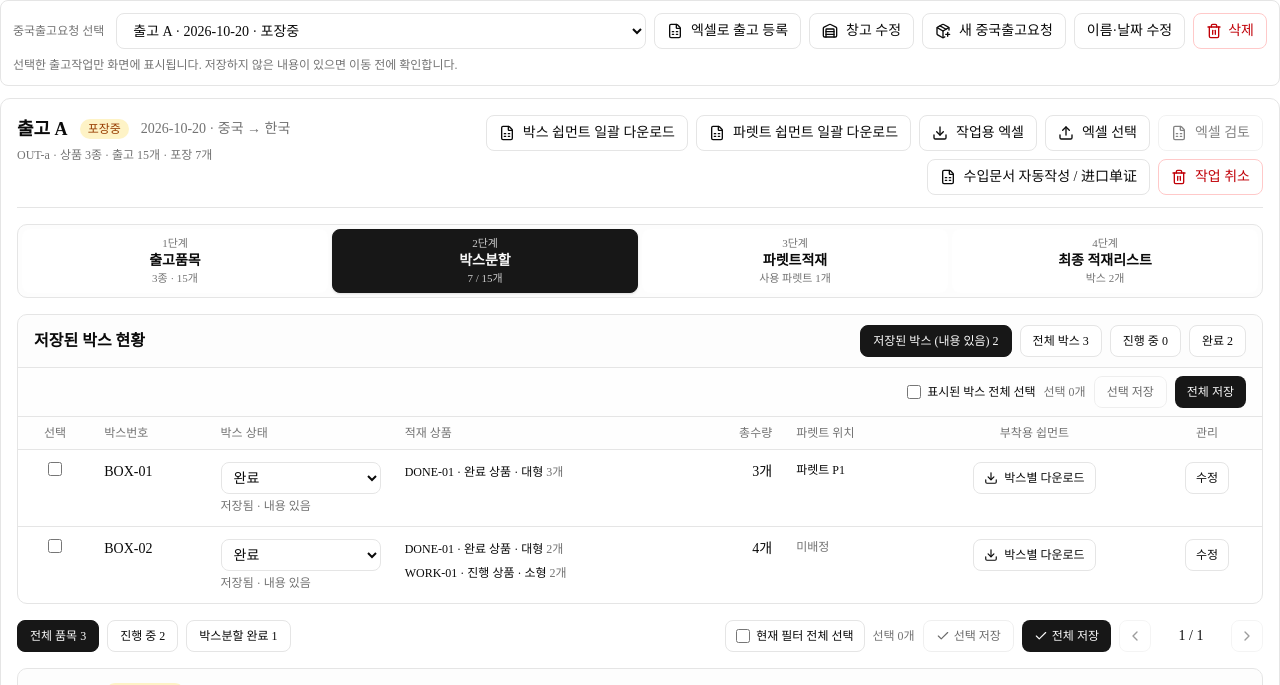
ChinaShipmentsBoard › shows saved box contents and lets users include empty boxes
The width and height of the screenshot is (1280, 685).
Expected: the text "BOX-01" is shown, [92,450,208,526]
Expected: the text "DONE-01 · 완료 상품 · 대형" in the row of "BOX-02" is shown, [405,542,543,556]
Click the button "전체 박스 3": {"x": 1061, "y": 341} [1020,325,1102,357]
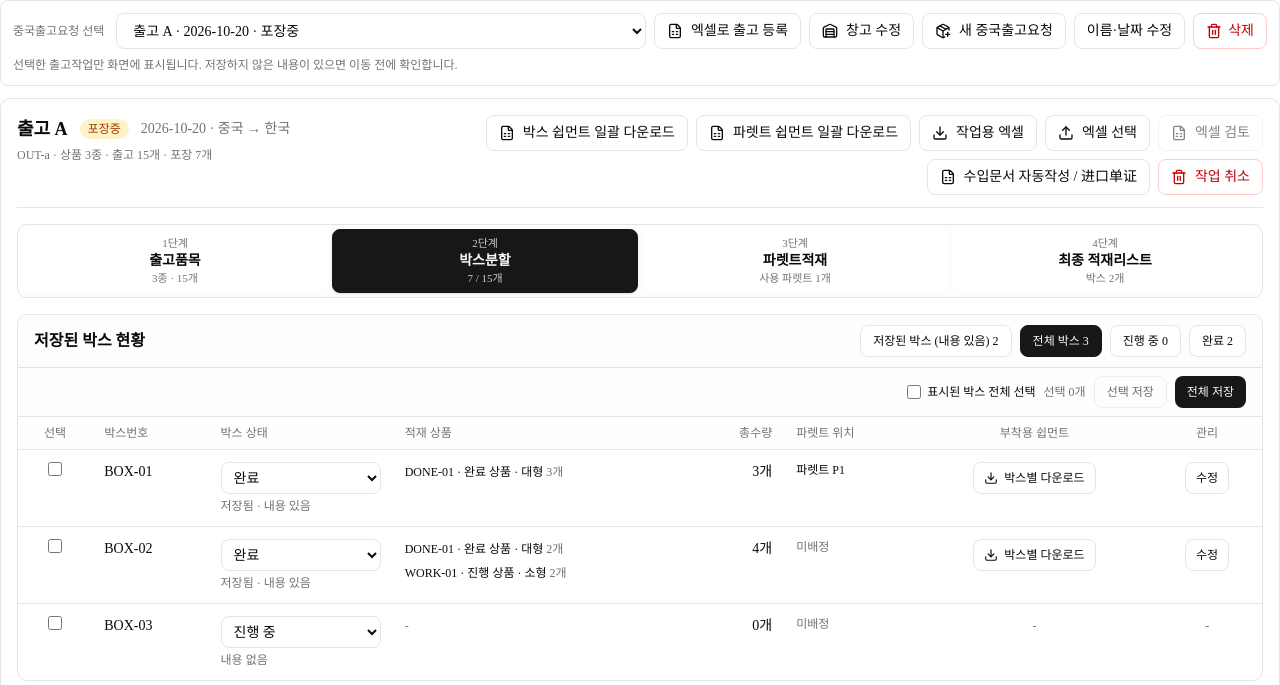
Expected: the text "내용 없음" is shown, [221,653,268,667]
